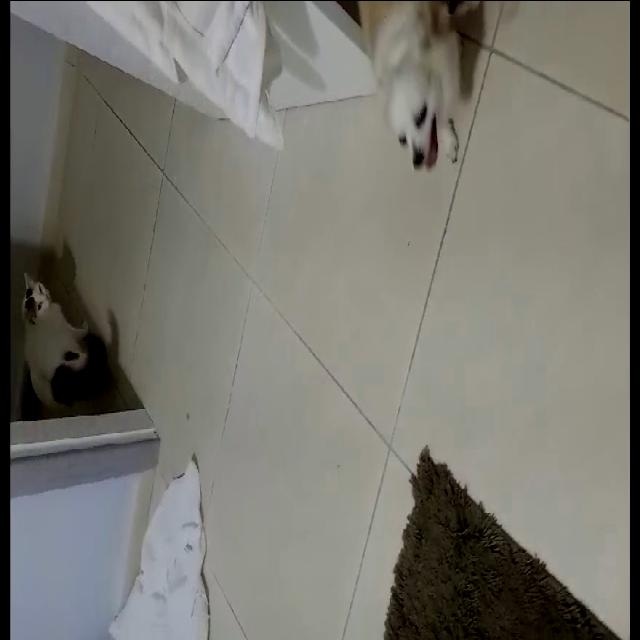Simba: (11, 258, 150, 404)
Theo: (346, 2, 478, 206)
